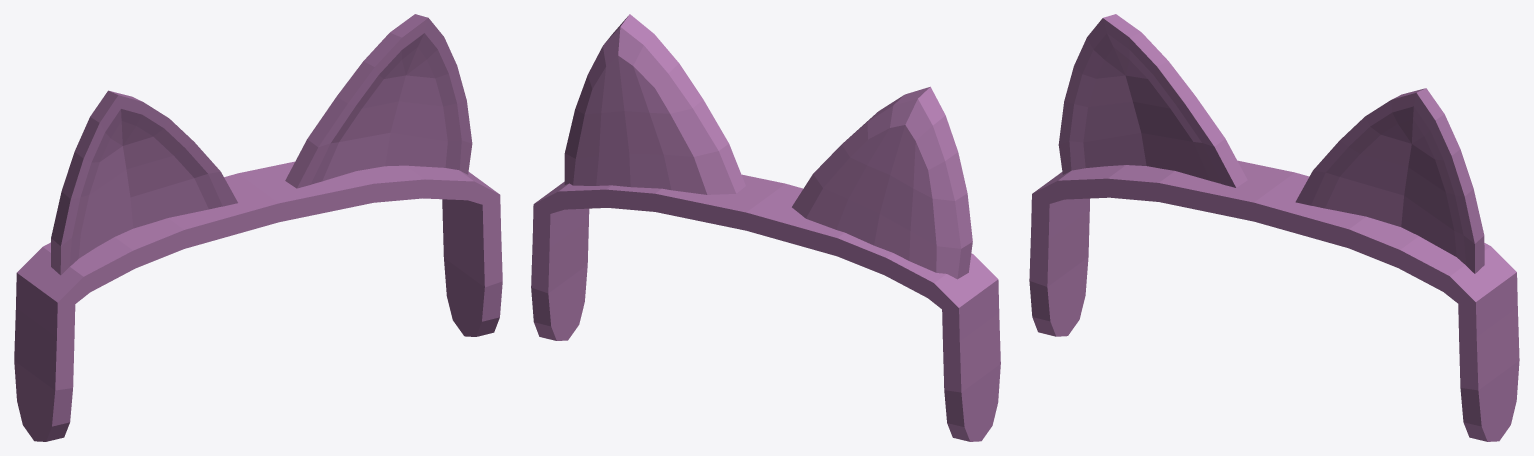
Rendered from Hat_CatEars.fbx.
3 views of the same model, side by side, from view 1: azimuth 30°, elevation 25°; view 2: azimuth 150°, elevation 25°; view 3: azimuth 330°, elevation 25° (orthographic). The views are drawn at different scales.
Visible parts, largest first — view 1: Hat_CatEars; view 2: Hat_CatEars; view 3: Hat_CatEars.
Boxes of the visible parts, box(x1,y1,x2,y2) form: Hat_CatEars: box(14, 14, 502, 441); Hat_CatEars: box(531, 14, 1000, 441); Hat_CatEars: box(1029, 14, 1519, 441).
Bounding box in the file's own units: 1.96 × 1.42 × 0.3102.
